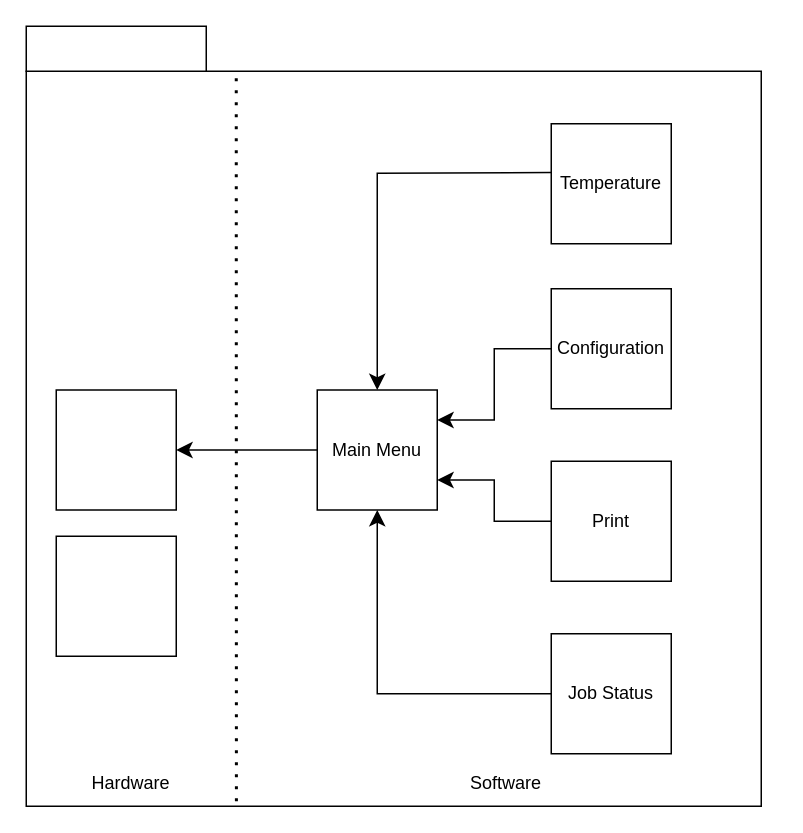
The diagram is 803 pixels wide and 833 high, and some of its shapes have lost their labels. Here are the shapes that lost their labels. From the top down, the centre of each, then its label:
At [115,48]: "User Interface".
At [115,449]: "Display (Touch?)".
At [115,595]: "Control Knob (if we don't have touch)".
